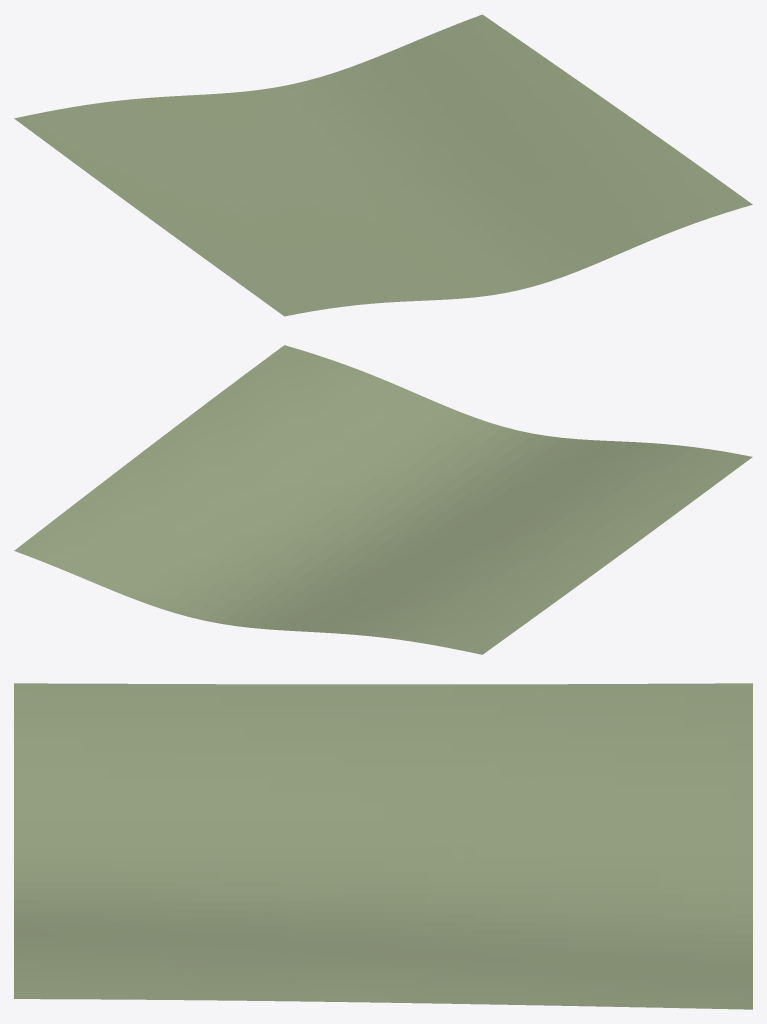
File: desert-13-5.glb
3 views of the same model, one above another, from view 1: azimuth 30°, elevation 25°; view 2: azimuth 150°, elevation 25°; view 3: azimuth 270°, elevation 25° (orthographic). The views are drawn at different scales.
Visible parts, largest first — view 1: desert-13-5; view 2: desert-13-5; view 3: desert-13-5.
Part boxes in pixels (x1=…): desert-13-5: x1=14, y1=14, x2=752, y2=316; desert-13-5: x1=14, y1=345, x2=752, y2=654; desert-13-5: x1=14, y1=683, x2=752, y2=1009.
Bounding box in the file's own units: 512 × 35.24 × 512.
